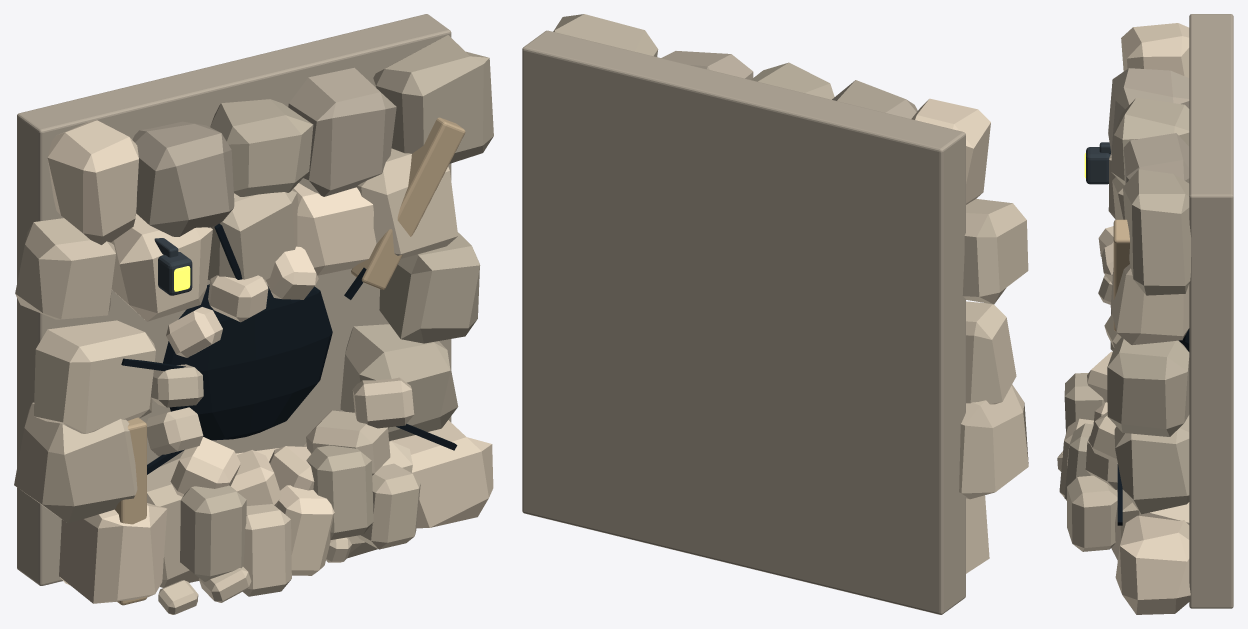
File: MD_Mine_BrokenWall_R.fbx
The picture shows the model from 3 angles, left to right: view 1: azimuth 30°, elevation 25°; view 2: azimuth 150°, elevation 25°; view 3: azimuth 270°, elevation 25°; orthographic projection. The views are drawn at different scales.
Parts seen in each view (by area): view 1: MD_Mine_BrokenWall_R; view 2: MD_Mine_BrokenWall_R; view 3: MD_Mine_BrokenWall_R.
Boxes of the visible parts, x1,y1,x2,y2 form: MD_Mine_BrokenWall_R: (14, 14, 493, 614); MD_Mine_BrokenWall_R: (522, 14, 1028, 614); MD_Mine_BrokenWall_R: (1057, 14, 1233, 614).
Size of the model in its own units: 379 by 374 by 139.
